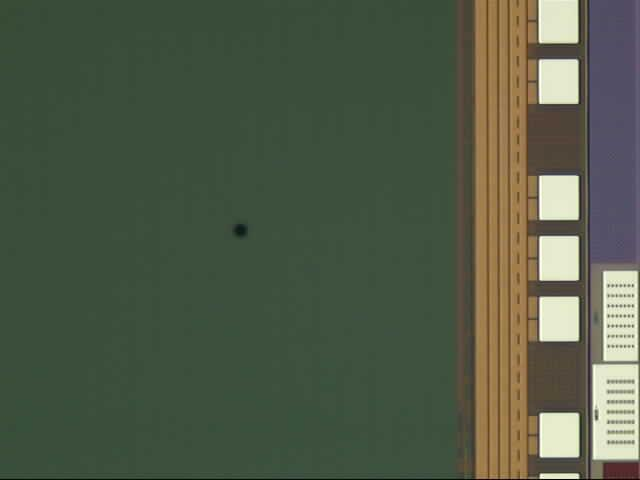PIQ PARTICLE: (229, 221, 252, 243)
